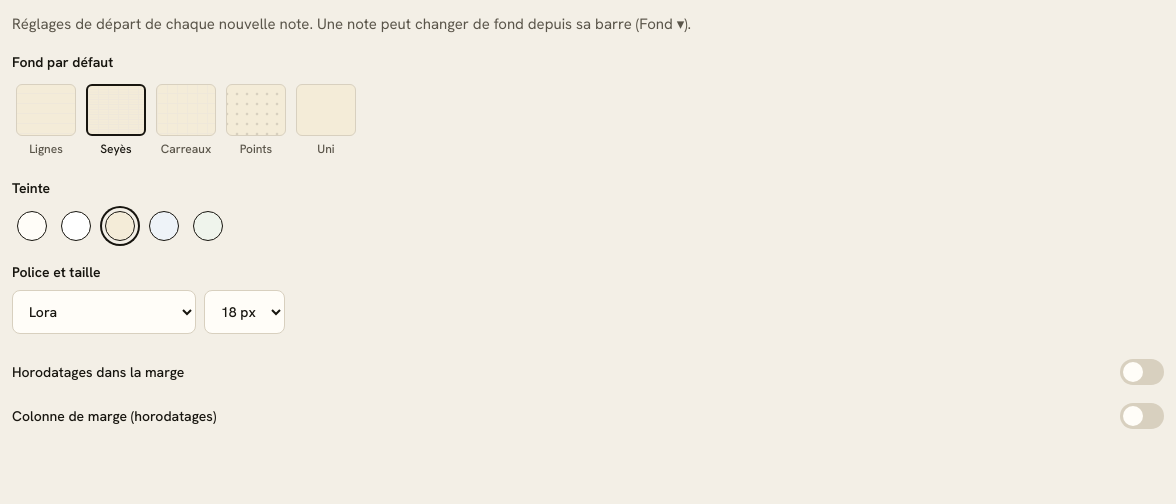
Test case: Réglages › Notes (YC-48) › a refused save puts the previous settings back and says so
Click the radio button with aria-label "Papier uni" at [326, 121], box [294, 80, 358, 162]
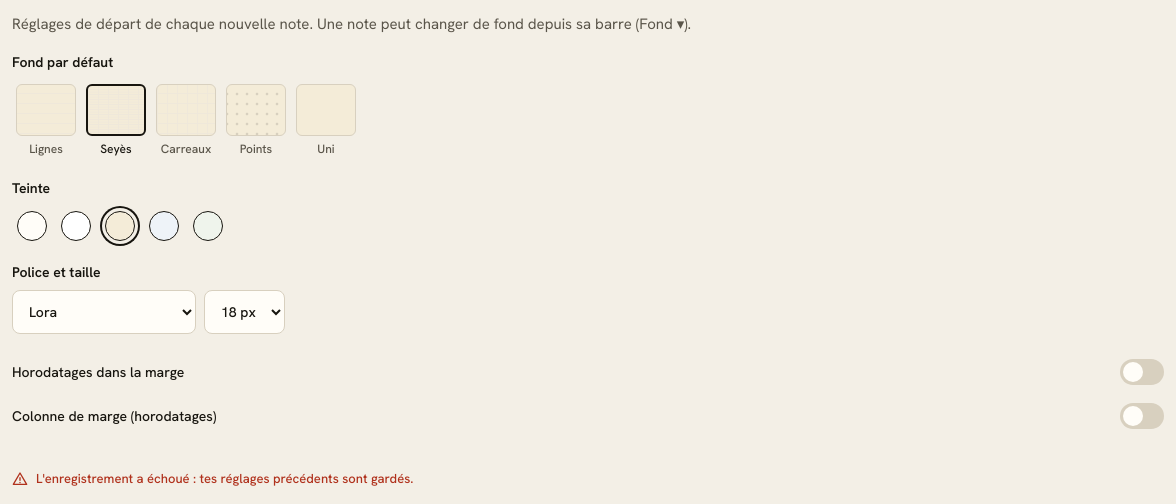
Now the message shows "L'enregistrement a échoué", box [36, 470, 414, 487]
